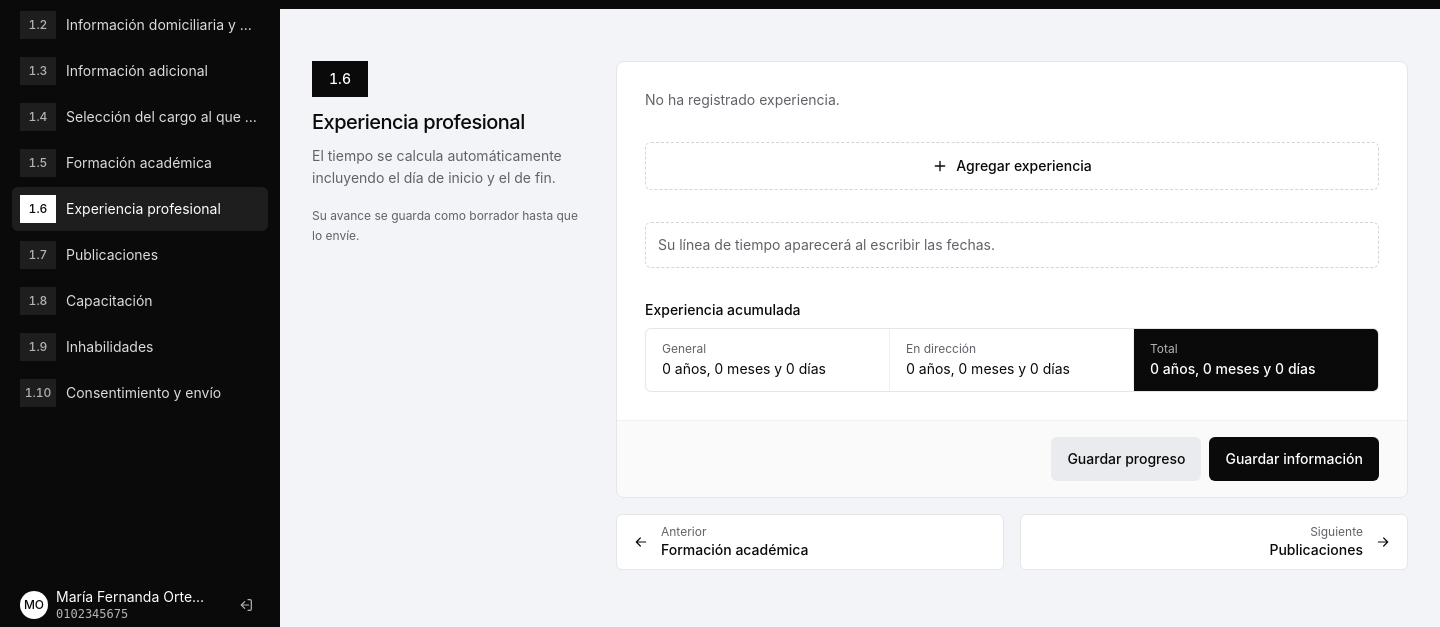
Test case: experiencia › calcula en vivo la duración de cada registro y el total
The image size is (1440, 627).
Click the button "Agregar experiencia" at (1012, 166), box [645,142,1379,190]
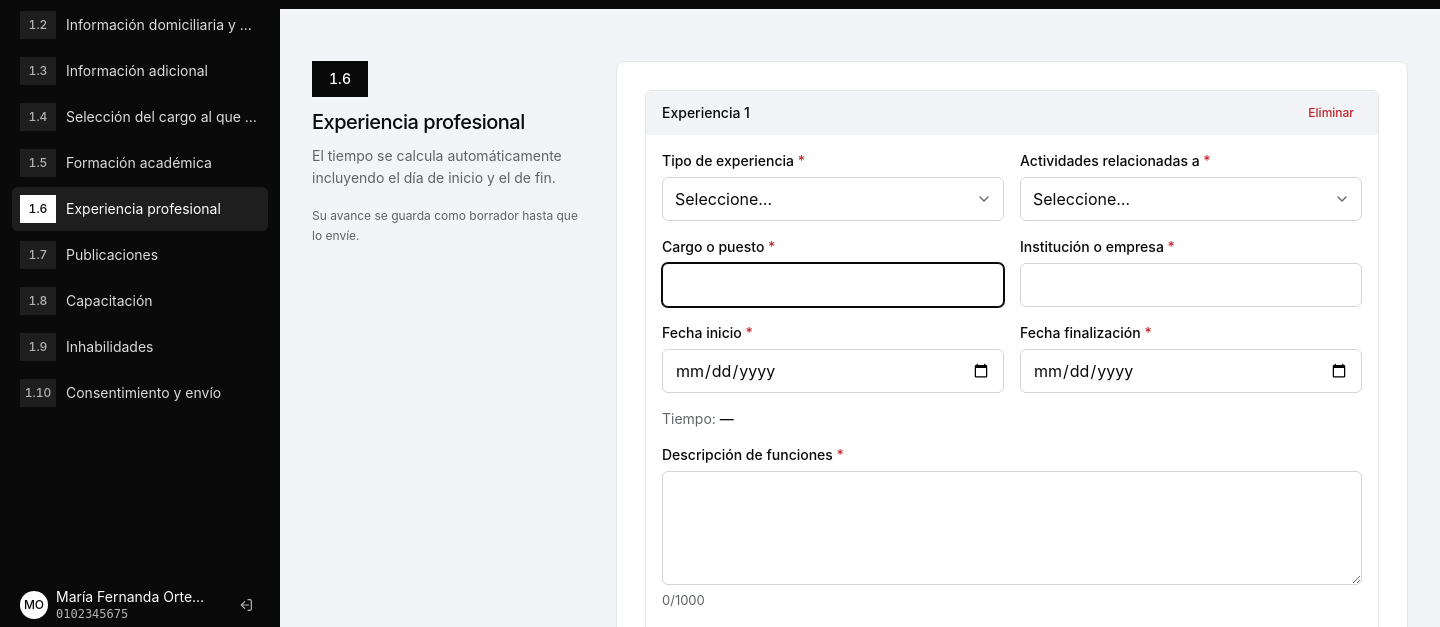
Type "2020-01-01" into the date field labelled "Fecha inicio *" at (833, 371), box [662,349,1004,393]
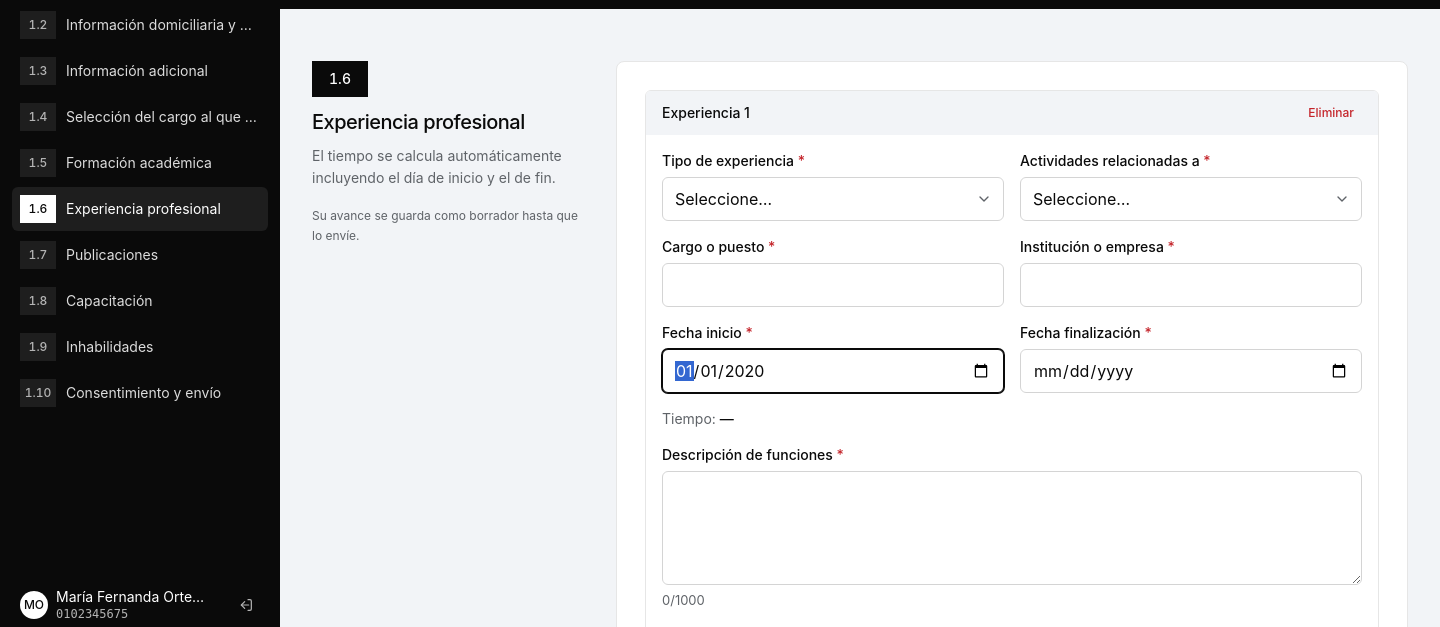
Type "2021-02-01" into the date field labelled "Fecha finalización *" at (1191, 371), box [1020,349,1362,393]
(page scrolled)
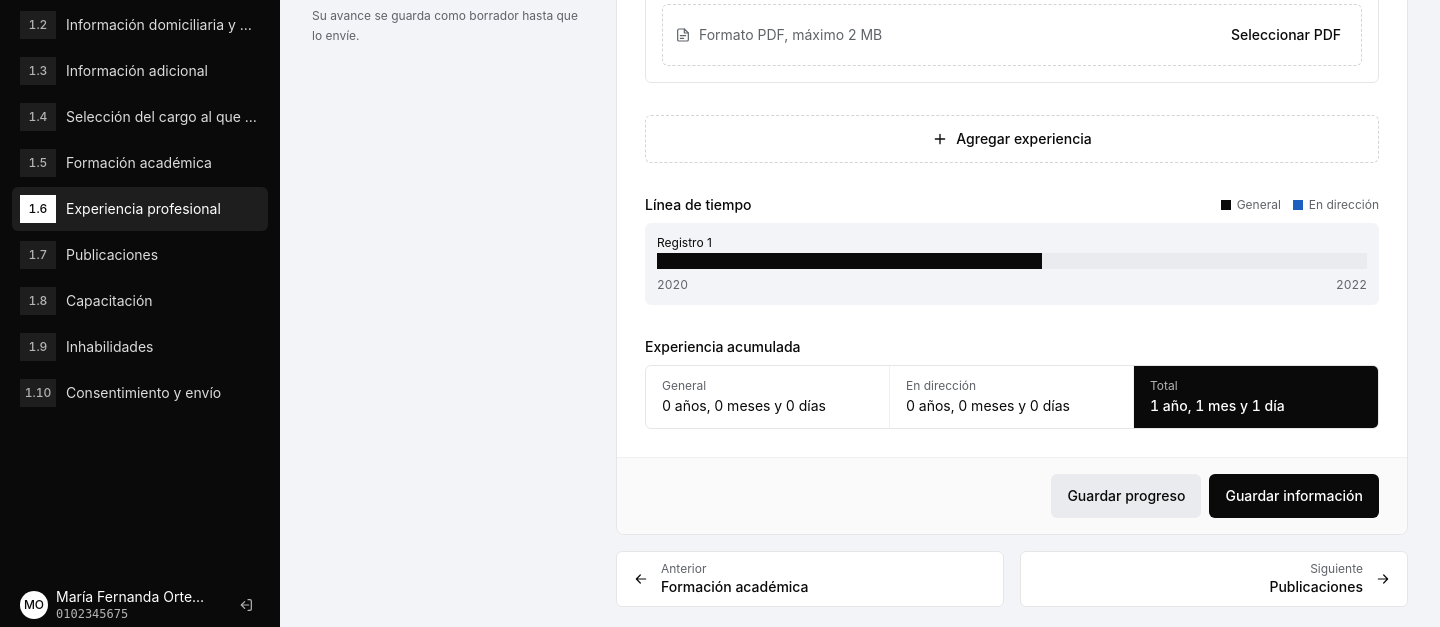
Expected: the text "1 año, 1 mes y 1 día" is shown 2 times
Expected: the text "1 año, 1 mes y 1 día" is shown, [1150,397,1285,414]
